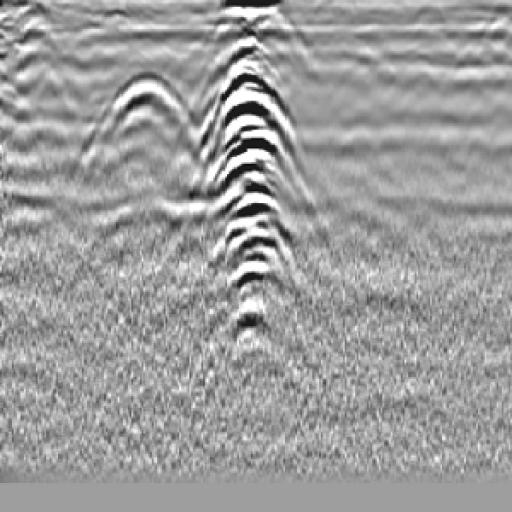metalic: (205, 26, 301, 366)
nonmetalic: (71, 70, 214, 191)
